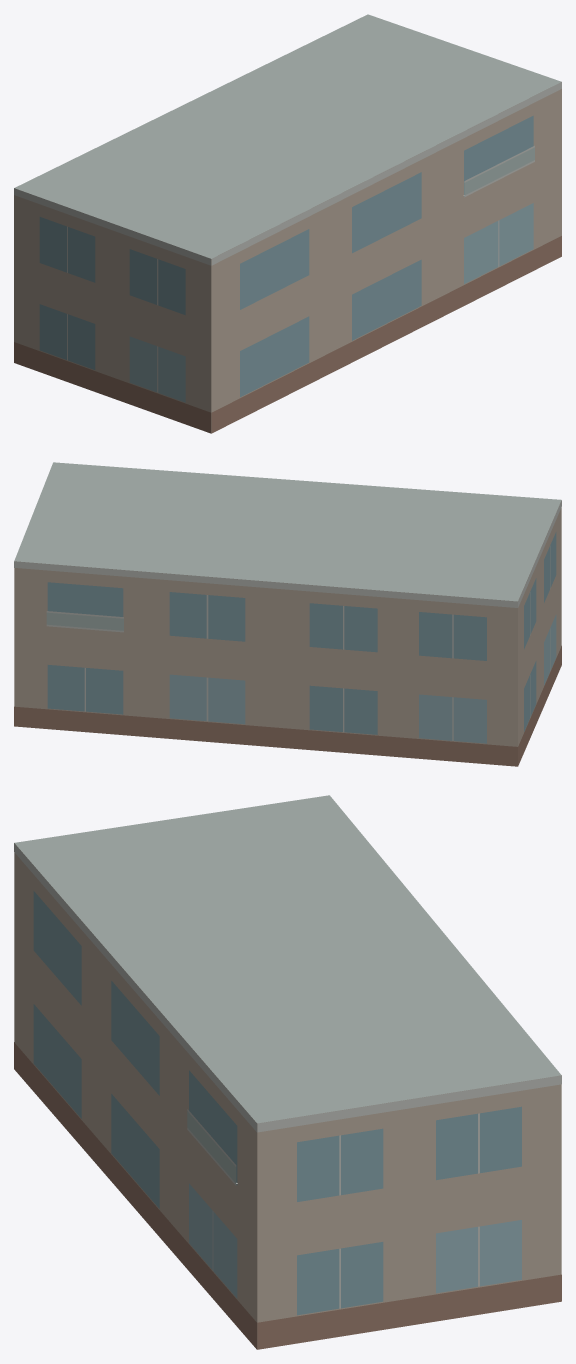
File: survey-upis-32842317.glb
3 views of the same model, one above another, from view 1: azimuth 30°, elevation 25°; view 2: azimuth 150°, elevation 25°; view 3: azimuth 270°, elevation 25° (orthographic). The views are drawn at different scales.
Parts seen in each view (by area): view 1: survey-upis-32842317.tmp; view 2: survey-upis-32842317.tmp; view 3: survey-upis-32842317.tmp.
Part boxes in pixels (bbox=[...]): survey-upis-32842317.tmp: bbox=[14, 14, 561, 433]; survey-upis-32842317.tmp: bbox=[14, 462, 561, 766]; survey-upis-32842317.tmp: bbox=[14, 795, 561, 1349].
Size of the model in its own units: 19 by 6.1 by 13.39.
